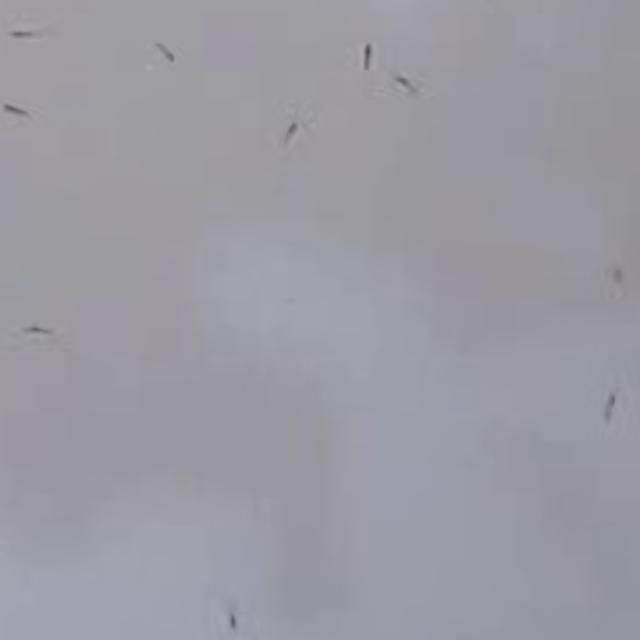shrimp-seed: (0, 0, 71, 54), (133, 22, 194, 71), (0, 92, 49, 147), (262, 102, 307, 159), (19, 307, 73, 354), (388, 65, 436, 113), (345, 34, 379, 87), (223, 595, 256, 640), (596, 381, 622, 438), (608, 252, 628, 290)
